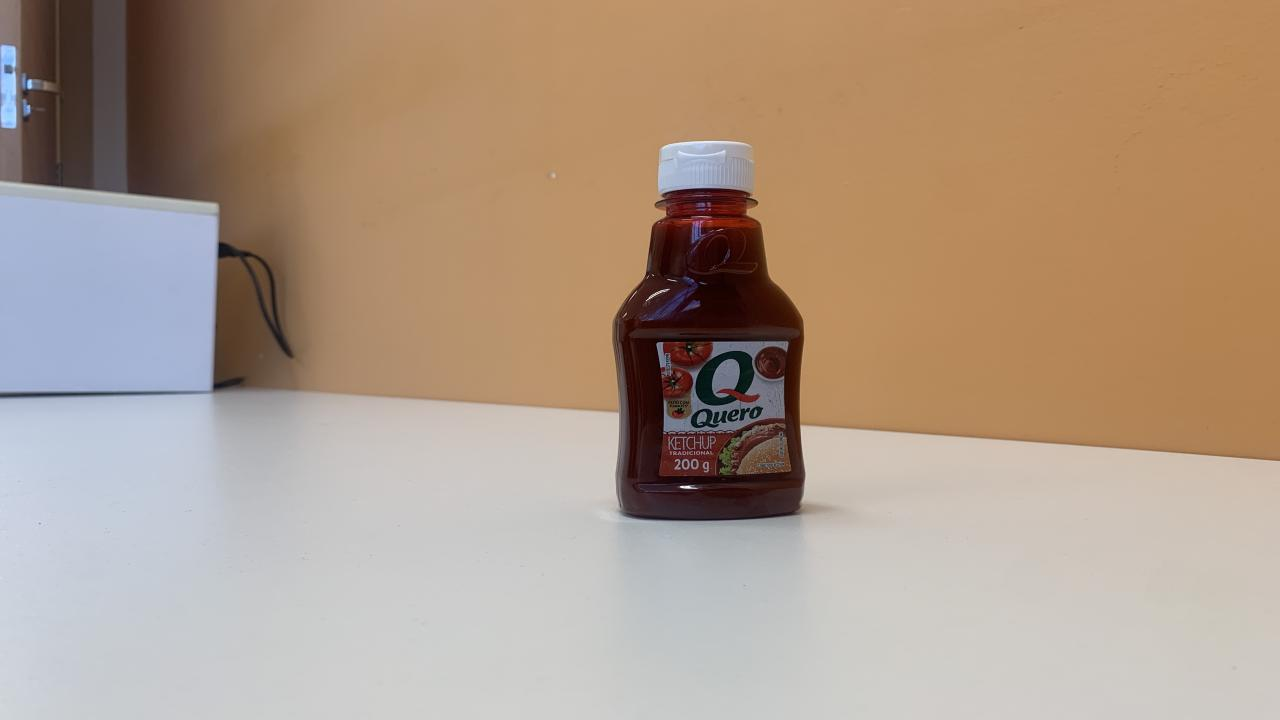Ketchup-Pantry_Items: (610, 140, 808, 525)
